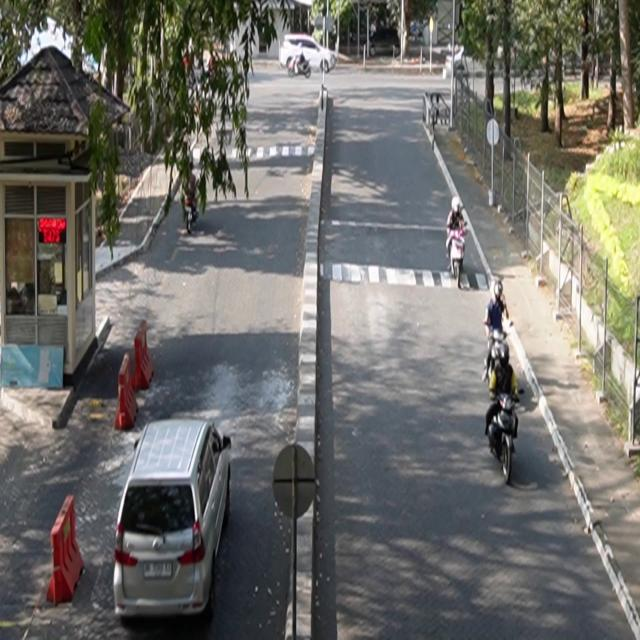car: (114, 418, 232, 622), (280, 34, 338, 75), (366, 28, 401, 59)
